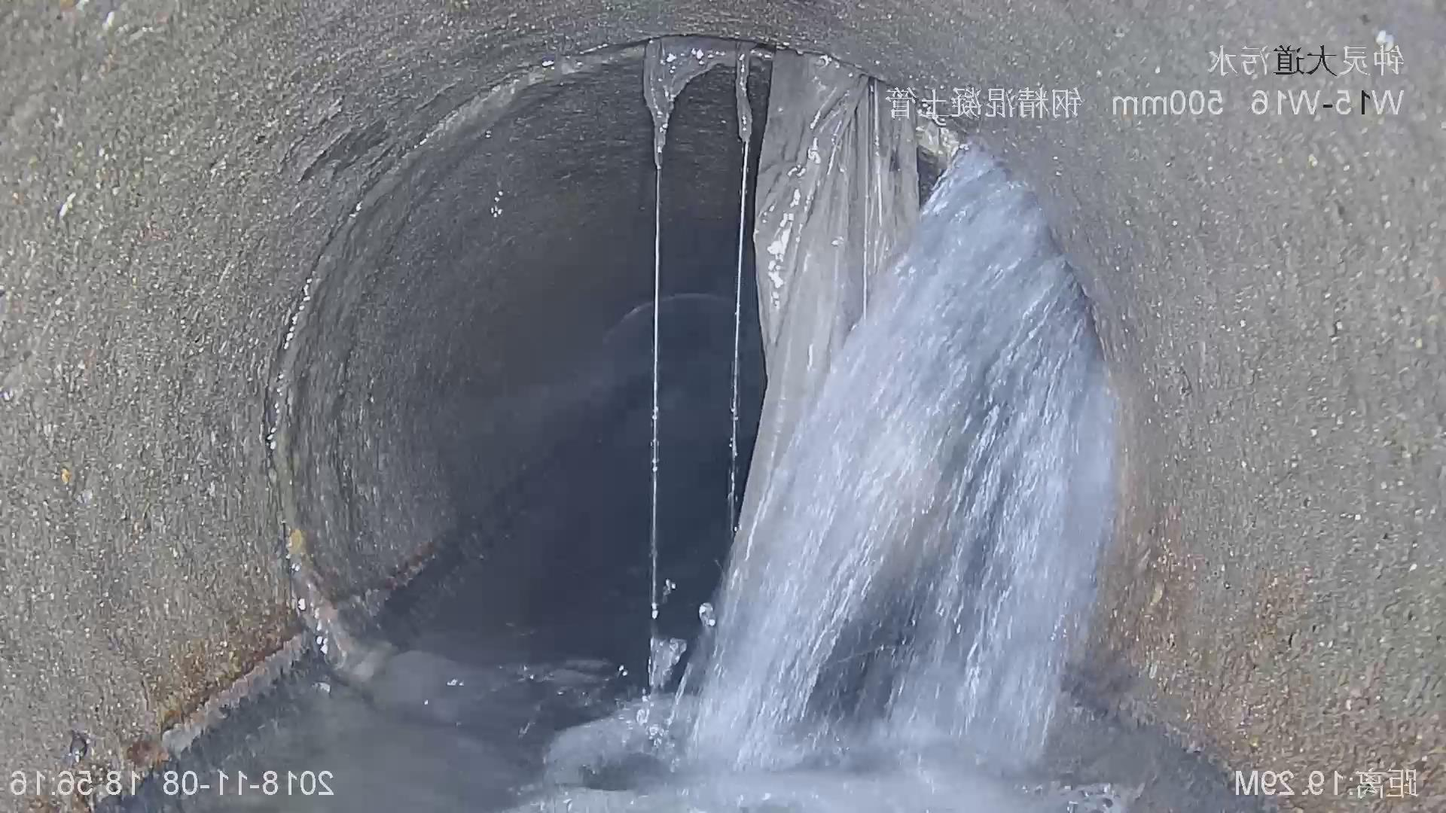CKTJ: (255, 28, 1010, 694)
JKCL: (642, 38, 959, 583)
SL: (493, 21, 1138, 807)
